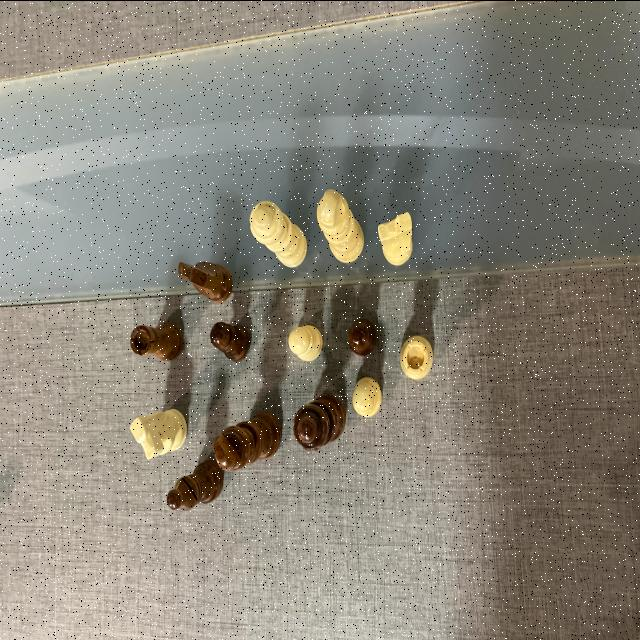Black-Bishop: (166, 460, 223, 511)
Black-King: (212, 410, 282, 472)
Black-Knight: (177, 257, 233, 303)
Black-Pawn: (210, 318, 252, 362), (346, 316, 378, 356)
Black-Queen: (292, 392, 346, 450)
Black-Rook: (130, 318, 184, 362)
White-King: (316, 185, 366, 263)
White-Knight: (130, 406, 188, 460), (376, 208, 414, 265)
White-Pawn: (288, 321, 326, 361), (352, 373, 384, 417)
White-Queen: (248, 198, 308, 268)
White-Rook: (400, 332, 435, 380)
